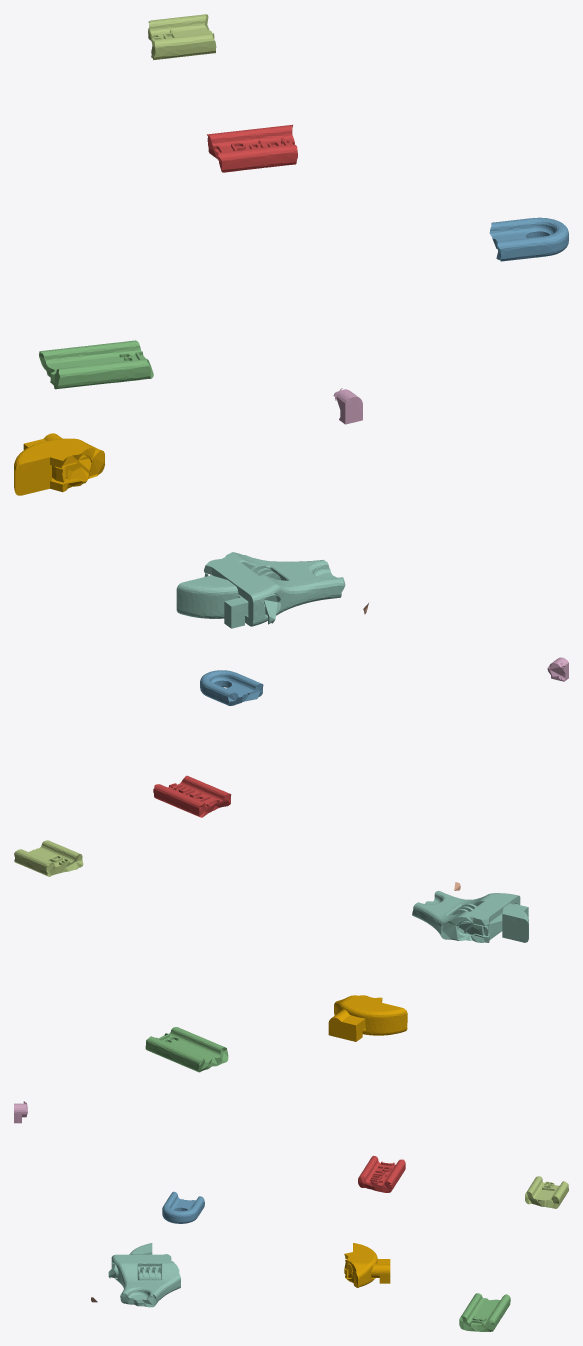
The model's file is fractured_57_8pcs_transformed.glb.
3 views of the same model, one above another, from view 1: azimuth 30°, elevation 25°; view 2: azimuth 150°, elevation 25°; view 3: azimuth 270°, elevation 25° (orthographic). The views are drawn at different scales.
Parts seen in each view (by area): view 1: piece_4.obj, piece_0.obj, piece_3.obj, piece_1.obj, piece_2.obj, piece_5.obj, piece_6.obj; view 2: piece_4.obj, piece_0.obj, piece_3.obj, piece_1.obj, piece_2.obj, piece_5.obj; view 3: piece_4.obj, piece_0.obj, piece_3.obj, piece_1.obj, piece_5.obj, piece_2.obj.
Boxes of the visible parts, x1,y1,x2,y2 form: piece_4.obj: (176,552,345,628); piece_0.obj: (14,433,104,495); piece_3.obj: (39,340,153,389); piece_1.obj: (207,124,297,172); piece_2.obj: (489,217,568,261); piece_5.obj: (148,14,216,60); piece_6.obj: (333,388,362,424); piece_4.obj: (412,891,528,942); piece_0.obj: (328,995,407,1041); piece_3.obj: (145,1027,228,1072); piece_1.obj: (153,775,231,817); piece_2.obj: (200,670,263,705); piece_5.obj: (14,840,83,876); piece_4.obj: (108,1243,180,1307); piece_0.obj: (344,1243,390,1287); piece_3.obj: (459,1293,510,1331); piece_1.obj: (358,1155,405,1192); piece_5.obj: (525,1176,568,1208); piece_2.obj: (162,1191,204,1223).
Size of the model in its own units: 1 by 0.665 by 1.88.
